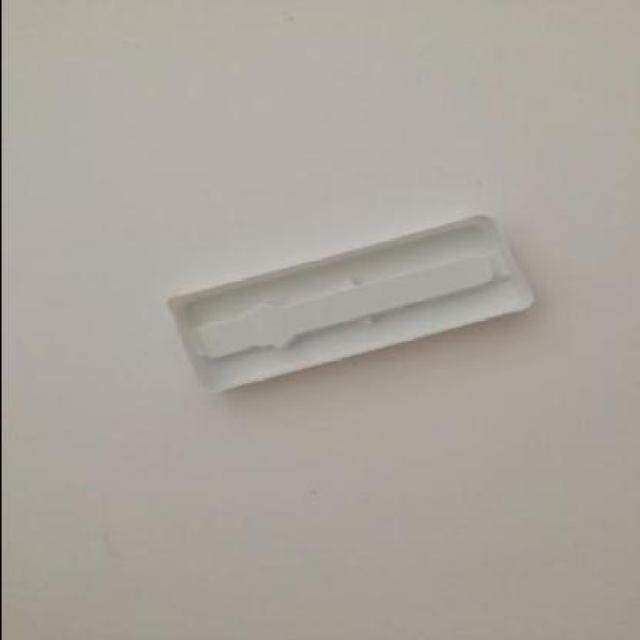PLASTIC: (169, 215, 534, 392)
